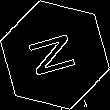N_E: (25, 29, 85, 81)
